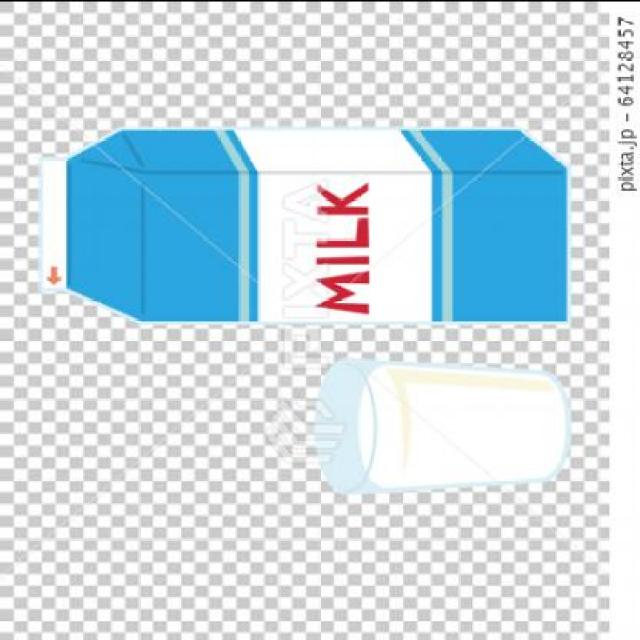non_white_jug: (22, 108, 586, 334)
